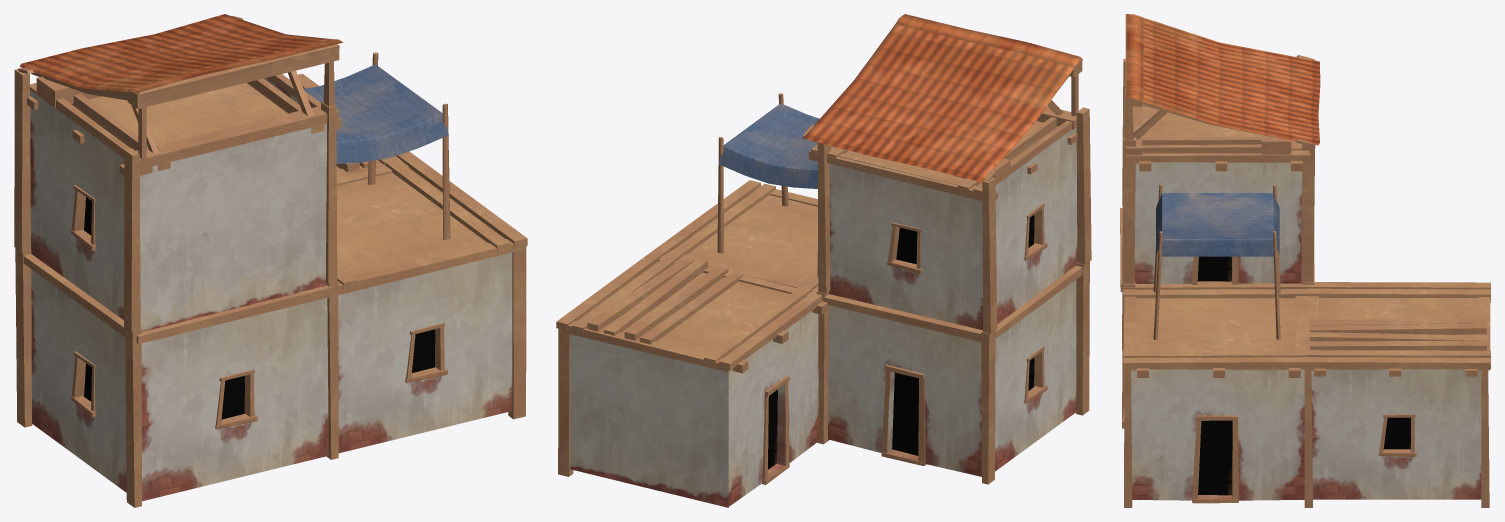
Rendered from SM_house_4.fbx.
3 views of the same model, side by side, from view 1: azimuth 30°, elevation 25°; view 2: azimuth 150°, elevation 25°; view 3: azimuth 270°, elevation 25° (orthographic). The views are drawn at different scales.
Visible parts, largest first — view 1: kit1_window_wall27, polySurface995, polySurface993, polySurface994, polySurface992, polySurface1053, polySurface991, polySurface998, polySurface999, polySurface990; view 2: kit1_window_wall27, polySurface992, polySurface993, polySurface995, polySurface994, polySurface989, polySurface1052, polySurface996, polySurface1046, polySurface1047, polySurface1045, polySurface1048 (+2 smaller); view 3: kit1_window_wall27, polySurface1045, polySurface1047, polySurface998, polySurface996, polySurface1046, polySurface1054, polySurface1052, polySurface1053, polySurface1048.
Part boxes in pixels (x1,y1,x2,y2): kit1_window_wall27: [18, 14, 527, 501]; polySurface995: [124, 148, 140, 332]; polySurface993: [14, 69, 30, 251]; polySurface994: [125, 328, 141, 507]; polySurface992: [15, 248, 32, 427]; polySurface1053: [508, 246, 526, 419]; polySurface991: [136, 285, 332, 343]; polySurface998: [321, 101, 337, 284]; polySurface999: [326, 281, 338, 459]; polySurface990: [23, 254, 144, 336]; kit1_window_wall27: [556, 14, 1082, 507]; polySurface992: [981, 330, 995, 484]; polySurface993: [982, 177, 997, 333]; polySurface995: [1076, 107, 1091, 264]; polySurface994: [1076, 261, 1089, 415]; polySurface989: [822, 294, 982, 341]; polySurface1052: [558, 328, 573, 476]; polySurface996: [817, 142, 830, 293]; polySurface1046: [604, 258, 708, 335]; polySurface1047: [624, 266, 728, 340]; polySurface1045: [587, 257, 693, 331]; polySurface1048: [639, 271, 743, 344]; kit1_window_wall27: [1122, 14, 1490, 503]; polySurface1045: [1310, 340, 1486, 350]; polySurface1047: [1310, 323, 1486, 334]; polySurface998: [1122, 137, 1135, 284]; polySurface996: [1301, 144, 1315, 282]; polySurface1046: [1310, 332, 1486, 341]; polySurface1054: [1304, 369, 1312, 507]; polySurface1052: [1481, 369, 1489, 507]; polySurface1053: [1124, 369, 1132, 507]; polySurface1048: [1310, 318, 1486, 325].
Size of the model in its own units: 9.14 by 9.08 by 8.92.
